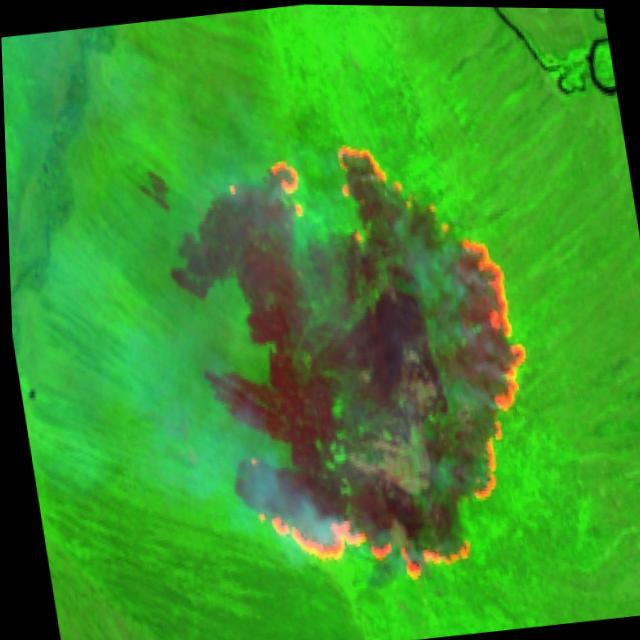fire: (172, 108, 566, 609)
